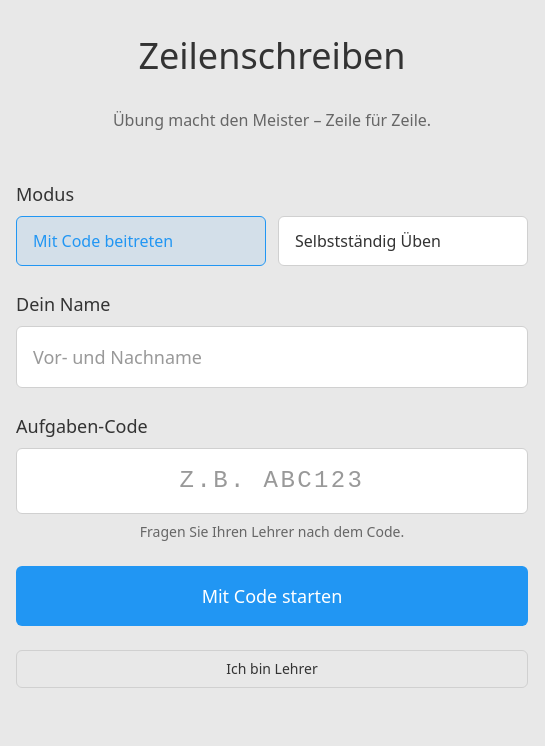
StudentForm › Validation — code join mode › shows error when name is too short
Type "A" into the field with placeholder "Vor- und Nachname" at (272, 357), box [16,326,528,388]
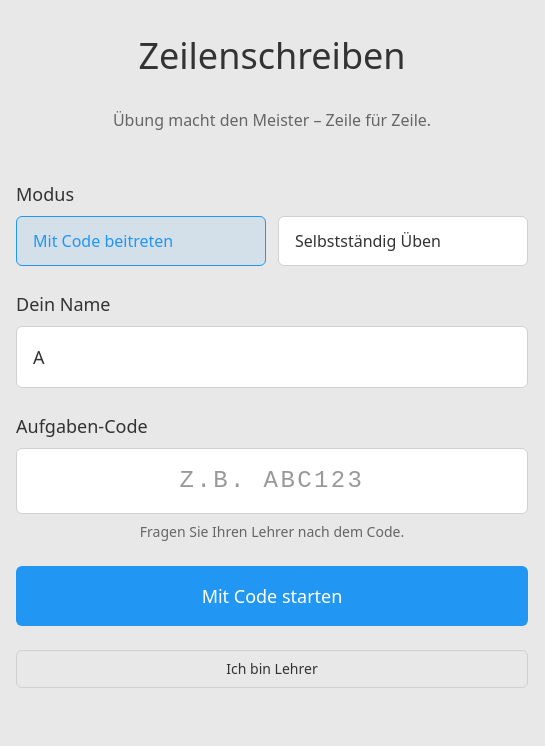
Click the button "Mit Code starten" at (272, 596), box [16,566,528,626]
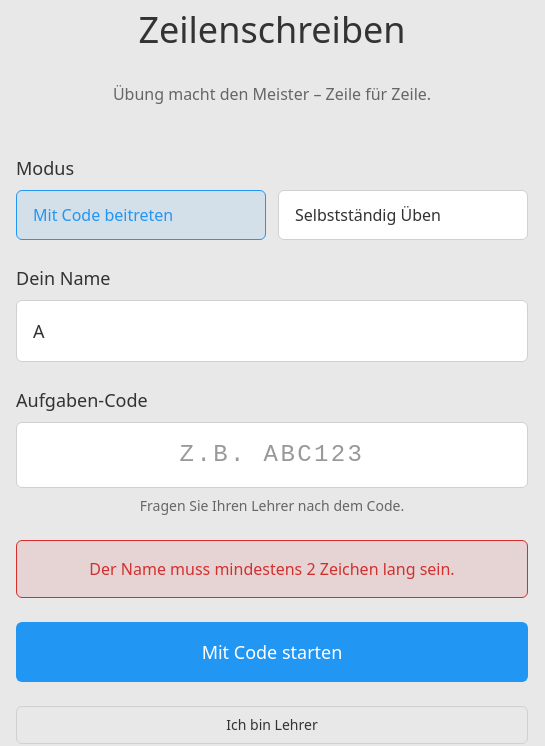
Check: the text "Der Name muss mindestens 2 Zeichen lang sein." is shown, box [16,540,528,598]
